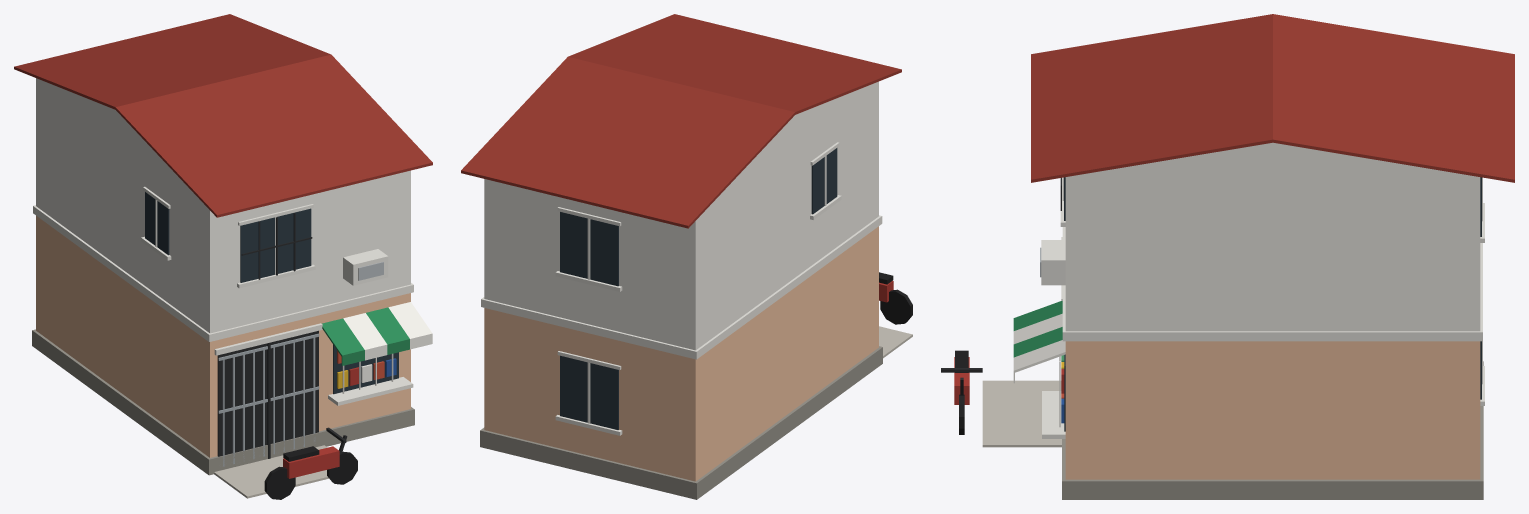
File: BAY_F_TwoStorey_J.glb
3 renders of one model, left to right at view 1: azimuth 30°, elevation 25°; view 2: azimuth 150°, elevation 25°; view 3: azimuth 270°, elevation 25°, orthographic. The views are drawn at different scales.
Visible parts, largest first — view 1: BAY_F_TwoStorey_J; view 2: BAY_F_TwoStorey_J; view 3: BAY_F_TwoStorey_J.
Boxes of the visible parts, x1=… form: BAY_F_TwoStorey_J: x1=14, y1=14, x2=432, y2=499; BAY_F_TwoStorey_J: x1=461, y1=14, x2=912, y2=499; BAY_F_TwoStorey_J: x1=941, y1=14, x2=1514, y2=499.
Size of the model in its own units: 4.3 by 5.8 by 8.3.
1 material, 1 textured.
